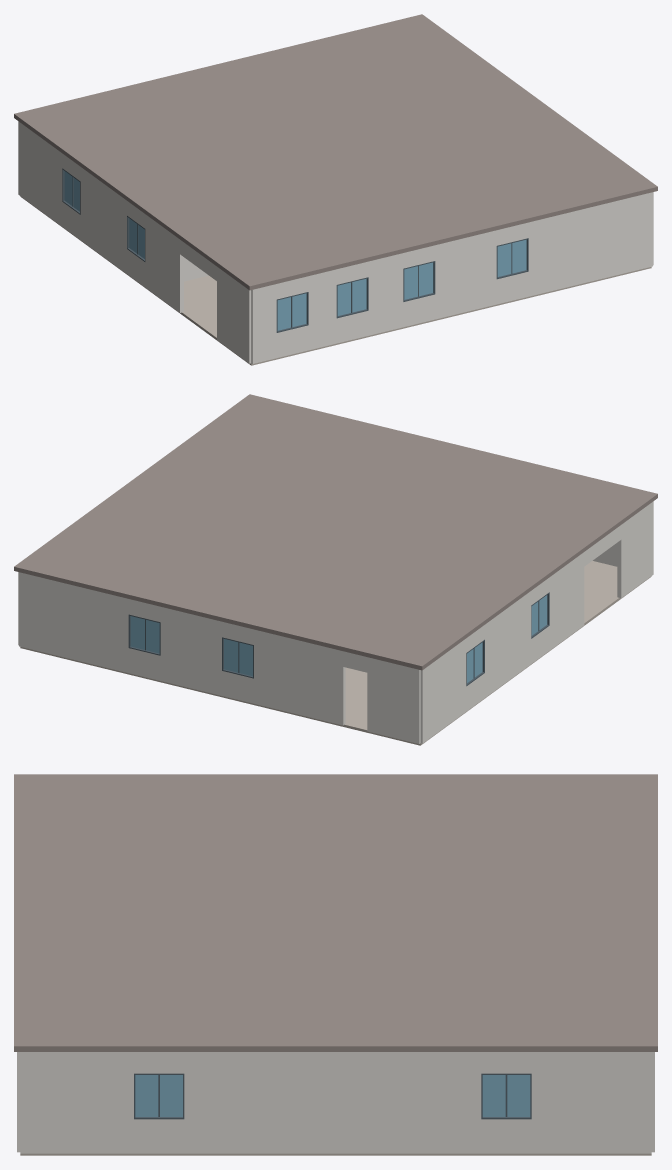
Rendered from new-home-4297a17876.glb.
3 views of the same model, one above another, from view 1: azimuth 30°, elevation 25°; view 2: azimuth 150°, elevation 25°; view 3: azimuth 270°, elevation 25° (orthographic). The views are drawn at different scales.
Visible parts, largest first — view 1: roof_0, wall_0_19, wall_0_18, wall_0_21, wall_0_20, wall_0_22, floor_slab_0, wall_0_17, wall_0_23, wall_0_16, wall_0_15, window_0_3_pane (+12 smaller); view 2: roof_0, wall_0_3, wall_0_1, wall_0_2, floor_slab_0, wall_0_0, wall_0_20, wall_0_21, wall_0_23, wall_0_22, window_0_7_pane, window_0_9_pane (+6 smaller); view 3: roof_0, wall_0_37, wall_0_36, wall_0_38, window_0_8_pane, window_0_4_pane, floor_slab_0, wall_0_55, wall_0_70, wall_0_54, wall_0_69.
Part boxes in pixels (box(x1,y1,x2,y2)): roof_0: box(14, 14, 657, 290); wall_0_19: box(528, 192, 652, 296); wall_0_18: box(435, 230, 496, 319); wall_0_21: box(80, 167, 126, 273); wall_0_20: box(18, 121, 62, 226); wall_0_22: box(145, 214, 183, 312); floor_slab_0: box(20, 196, 651, 365); wall_0_17: box(368, 253, 403, 335); wall_0_23: box(217, 267, 251, 363); wall_0_16: box(308, 269, 336, 350); wall_0_15: box(251, 284, 276, 363); window_0_3_pane: box(497, 239, 526, 276); roof_0: box(14, 394, 657, 670); wall_0_3: box(19, 572, 128, 672); wall_0_1: box(254, 629, 345, 725); wall_0_2: box(160, 607, 221, 695); floor_slab_0: box(20, 561, 651, 745); wall_0_0: box(367, 657, 420, 743); wall_0_20: box(420, 638, 466, 743); wall_0_21: box(485, 591, 531, 697); wall_0_23: box(617, 501, 653, 598); wall_0_22: box(549, 552, 584, 650); window_0_7_pane: box(224, 639, 252, 676); window_0_9_pane: box(130, 616, 159, 653); roof_0: box(14, 774, 657, 1051); wall_0_37: box(184, 1052, 481, 1153); wall_0_36: box(531, 1052, 651, 1153); wall_0_38: box(20, 1052, 133, 1153); window_0_8_pane: box(482, 1075, 530, 1116); window_0_4_pane: box(135, 1075, 182, 1116); floor_slab_0: box(20, 1153, 651, 1155); wall_0_55: box(134, 1119, 184, 1153); wall_0_70: box(481, 1119, 531, 1153); wall_0_54: box(134, 1052, 184, 1073); wall_0_69: box(481, 1052, 531, 1073).
Bounding box in the file's own units: 51 × 9.8 × 51.
